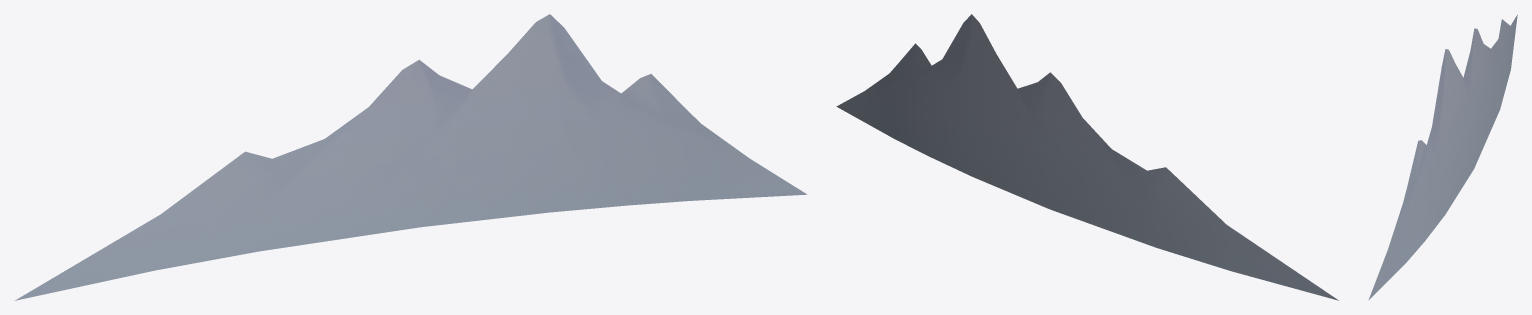
File: sucai_16.FBX
3 renders of one model, left to right at view 1: azimuth 30°, elevation 25°; view 2: azimuth 150°, elevation 25°; view 3: azimuth 270°, elevation 25°, orthographic. The views are drawn at different scales.
Visible parts, largest first — view 1: sucai_16; view 2: sucai_16; view 3: sucai_16.
Boxes of the visible parts, x1=… form: sucai_16: x1=14, y1=14, x2=806, y2=300; sucai_16: x1=836, y1=14, x2=1338, y2=300; sucai_16: x1=1368, y1=14, x2=1517, y2=300.
Size of the model in its own units: 482 by 130 by 106.
